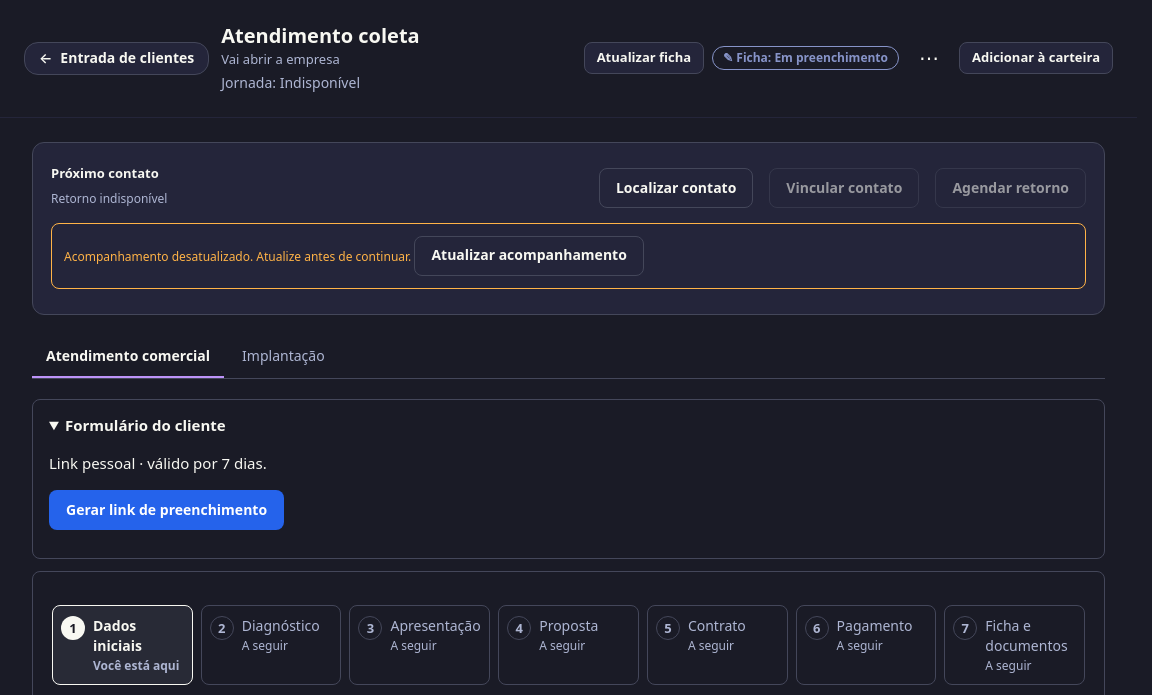
Test: nova coleta sem conversa expõe gerar link e preserva seções escolhidas ao atualizar a ficha
Click the button "Gerar link de preenchimento" at (167, 510), box [49, 490, 284, 530]
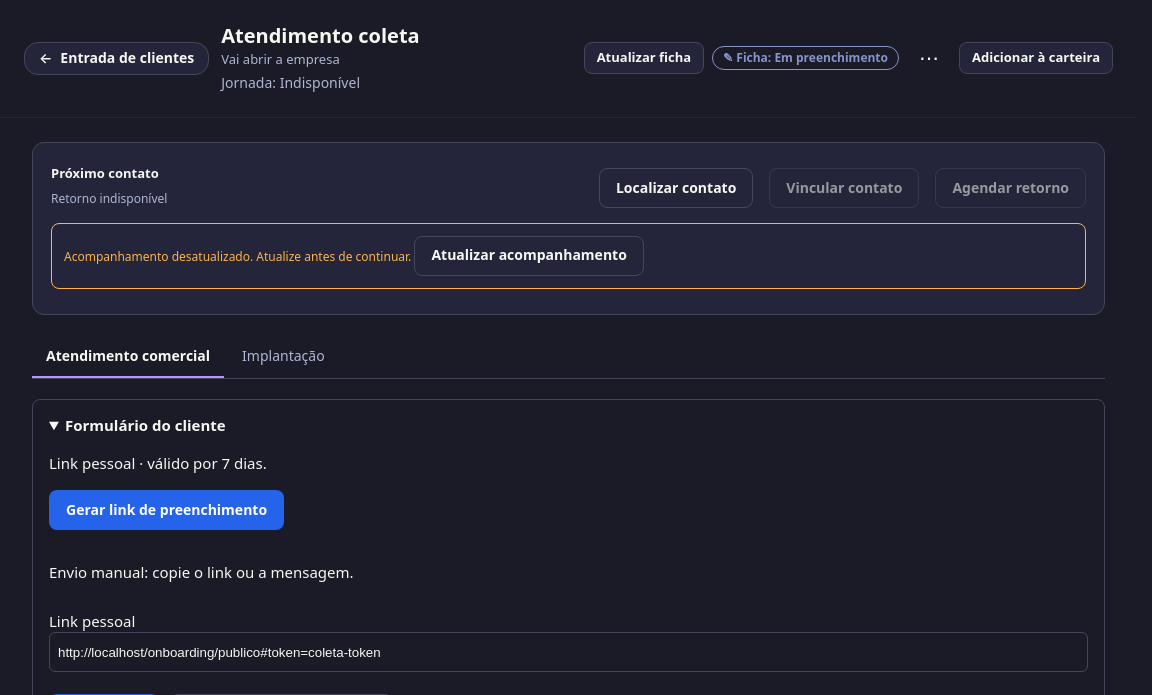
Click the heading "Formulário do cliente" at (145, 425), box [65, 415, 226, 435]
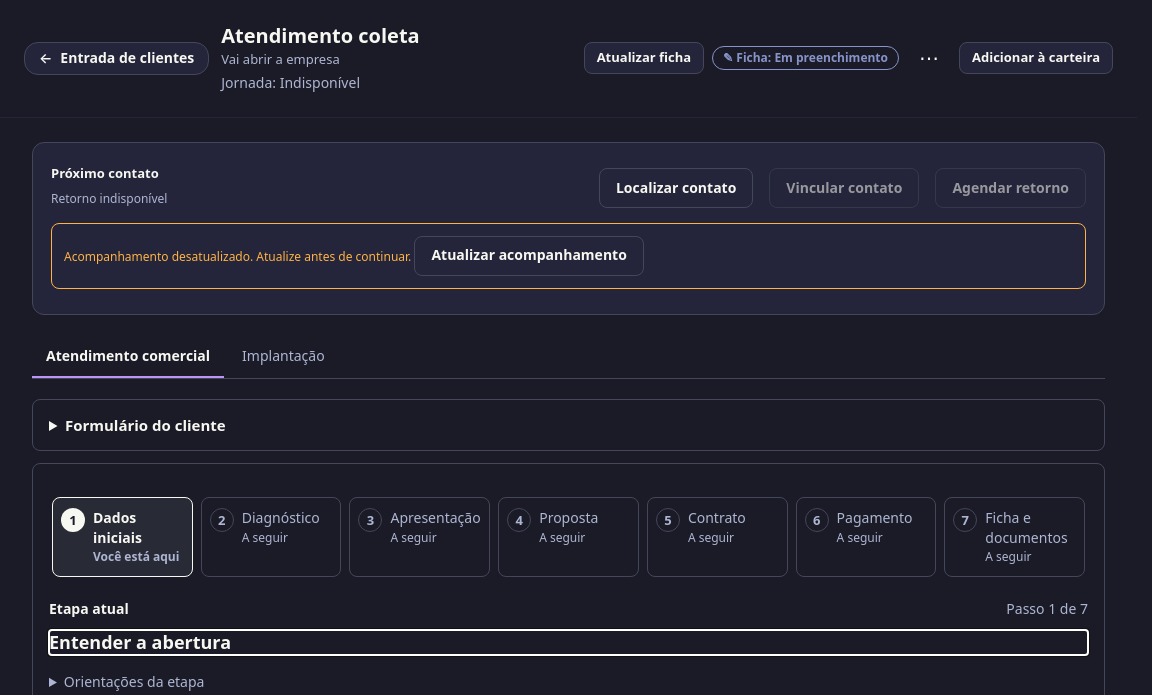
Result: the text "Formulário do cliente" does not have attribute open at [32, 399, 1105, 451]
Click the button "Atualizar ficha" at (644, 58), box [584, 42, 704, 74]
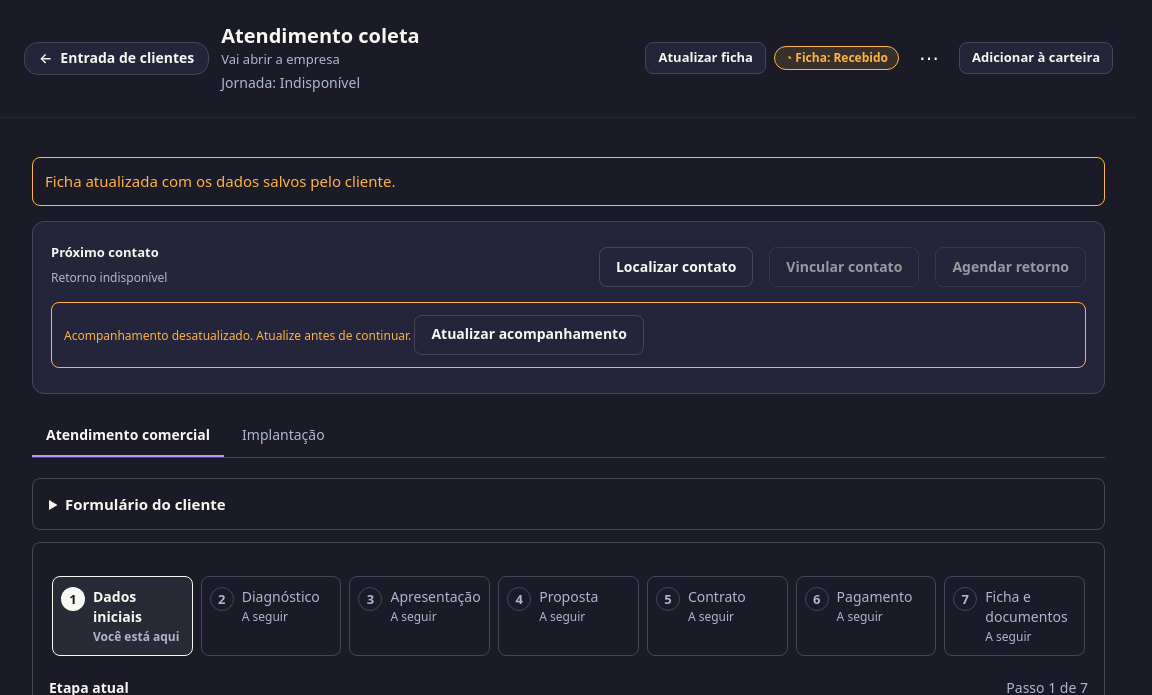
Result: the text "Ficha atualizada com os dados salvos pelo cliente." is shown at [32, 156, 1105, 206]
